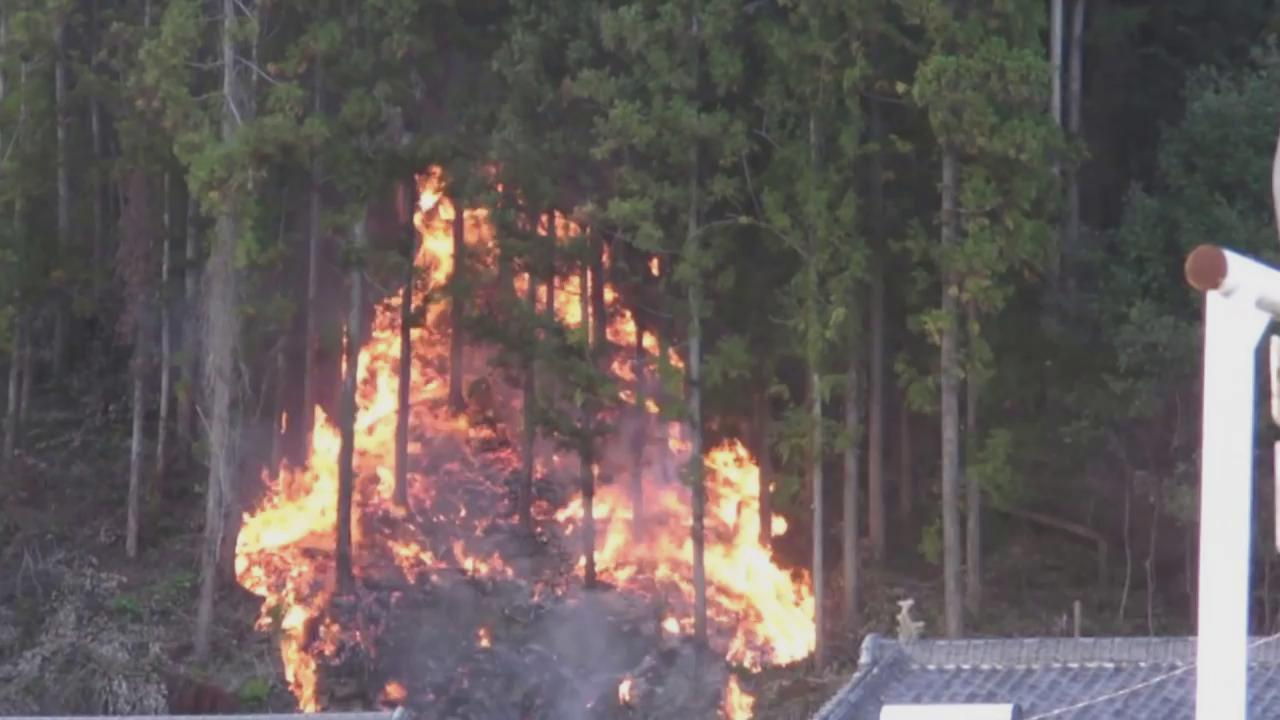Fire: (236, 162, 461, 713), (543, 423, 818, 673), (467, 174, 687, 414), (453, 541, 515, 581), (720, 676, 760, 720)
